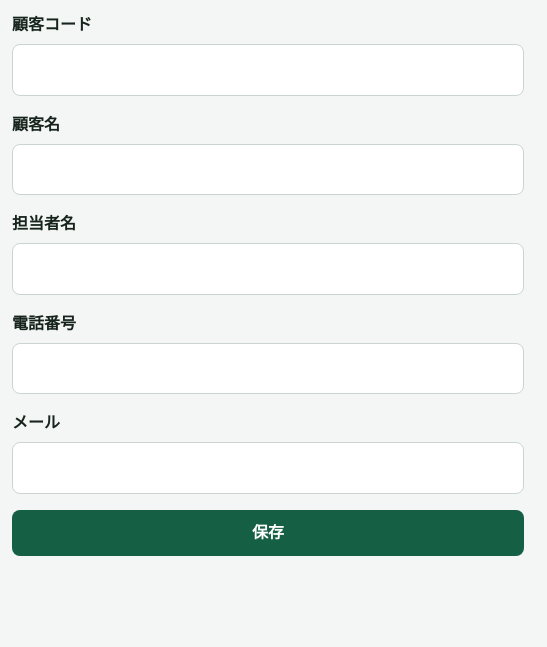
Test: preserves customer input after an API failure
The image size is (547, 647).
In the field labelled "顧客コード": point(268, 70) x1=12 y1=44 x2=524 y2=96, type "CUS-001"
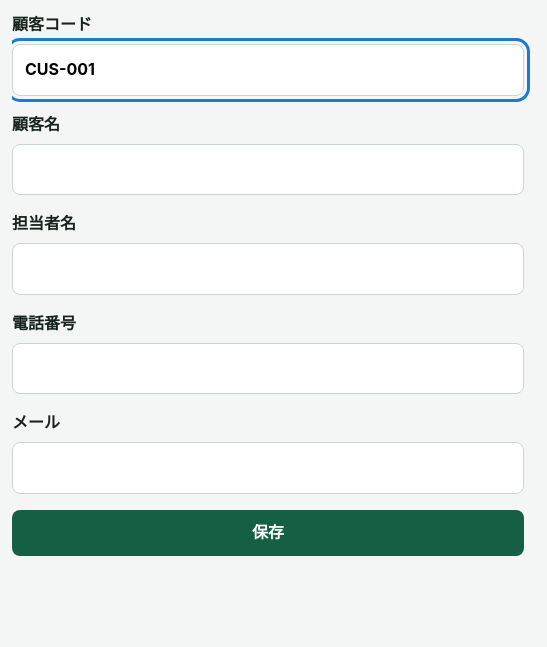
In the field labelled "顧客名": point(268, 169) x1=12 y1=144 x2=524 y2=195, type "入力を保持する顧客"
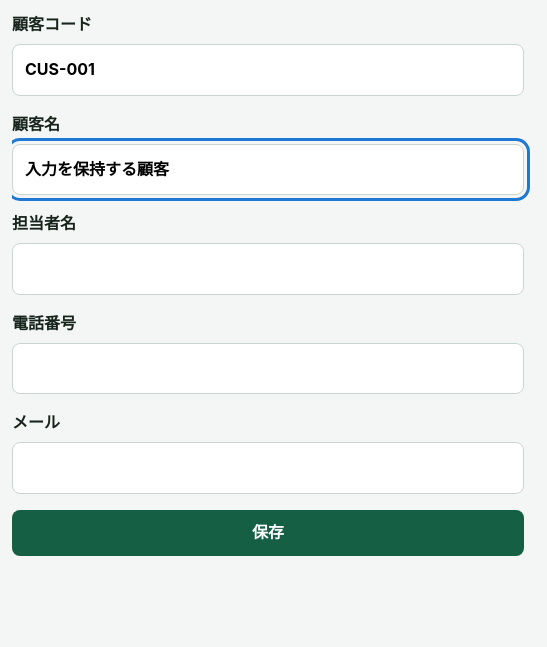
Click the button "保存": point(268, 533) x1=12 y1=510 x2=524 y2=556
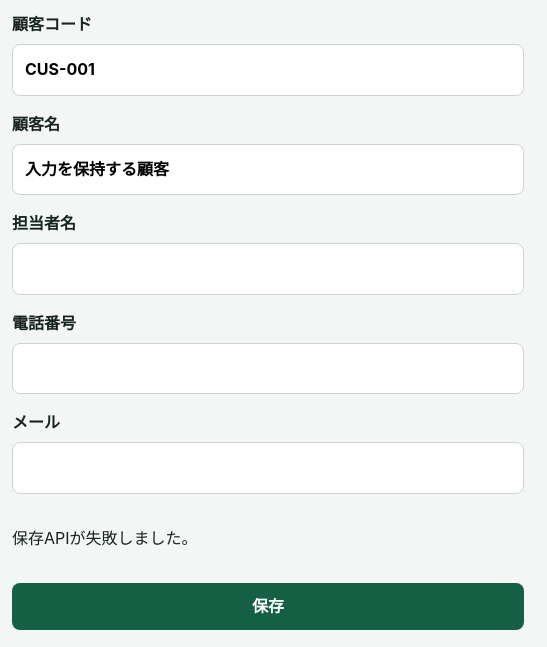
Check: the message reads "保存APIが失敗しました。", box x1=12 y1=528 x2=198 y2=548
